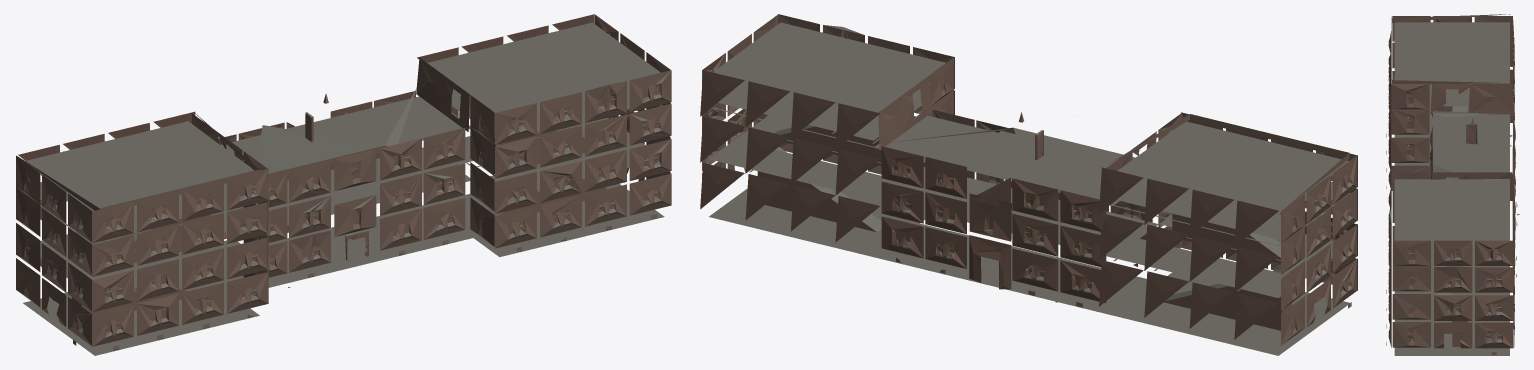
Rendered from prison-block.far-facades-v2.lod2.glb.
3 views of the same model, side by side, from view 1: azimuth 30°, elevation 25°; view 2: azimuth 150°, elevation 25°; view 3: azimuth 270°, elevation 25° (orthographic). The views are drawn at different scales.
Parts seen in each view (by area): view 1: prison-block; view 2: prison-block; view 3: prison-block.
Boxes of the visible parts, left/top/right/bottom form: prison-block: left=16, top=14, right=671, bottom=355; prison-block: left=700, top=14, right=1357, bottom=355; prison-block: left=1386, top=14, right=1519, bottom=355.
Size of the model in its own units: 51.78 by 14.98 by 12.77.
